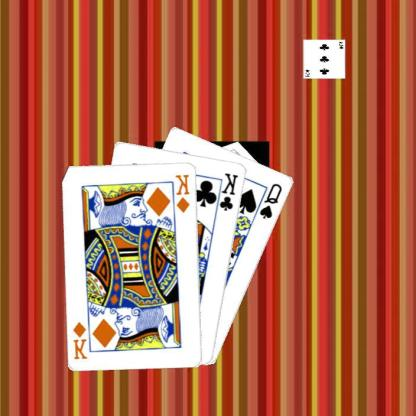KC: (214, 170, 241, 215)
KD: (175, 171, 193, 214), (72, 319, 90, 361)
QS: (259, 180, 285, 221)
